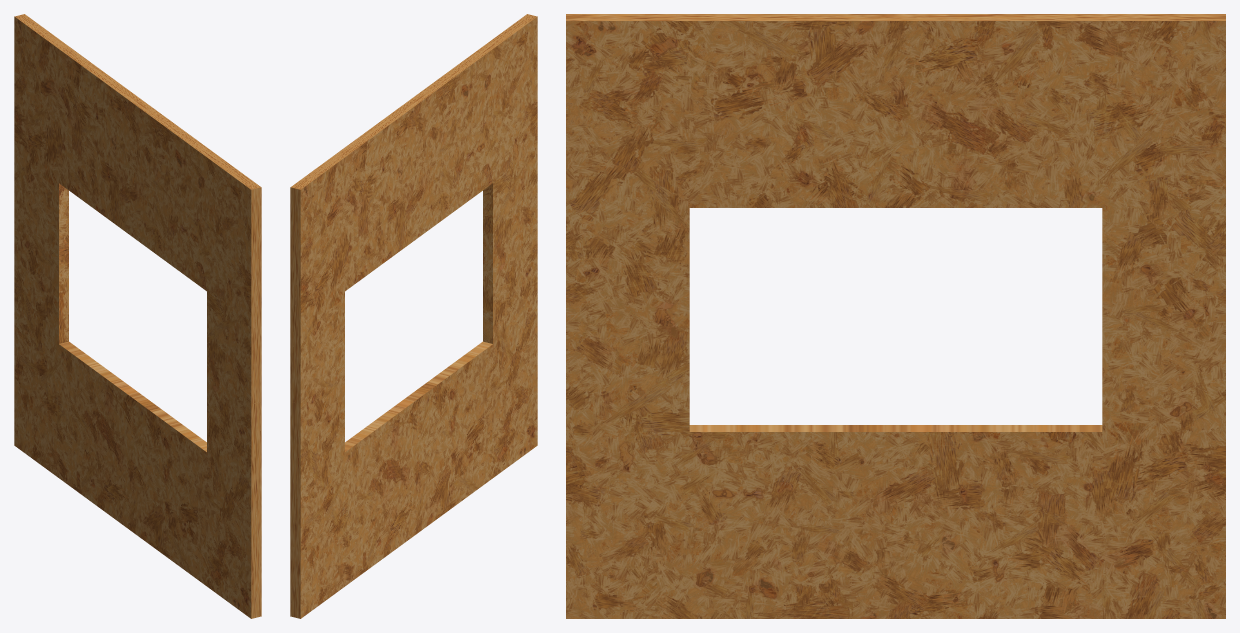
The model's file is Window.fbx.
3 views of the same model, side by side, from view 1: azimuth 30°, elevation 25°; view 2: azimuth 150°, elevation 25°; view 3: azimuth 270°, elevation 25° (orthographic). The views are drawn at different scales.
Parts seen in each view (by area): view 1: Cube; view 2: Cube; view 3: Cube.
Boxes of the visible parts, x1,y1,x2,y2 form: Cube: [14, 14, 261, 618]; Cube: [290, 14, 537, 618]; Cube: [566, 14, 1225, 618].
Bounding box in the file's own units: 20 × 800 × 800.
